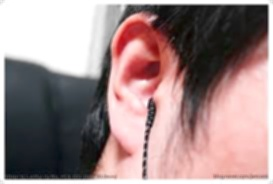earphone: (107, 12, 164, 157)
